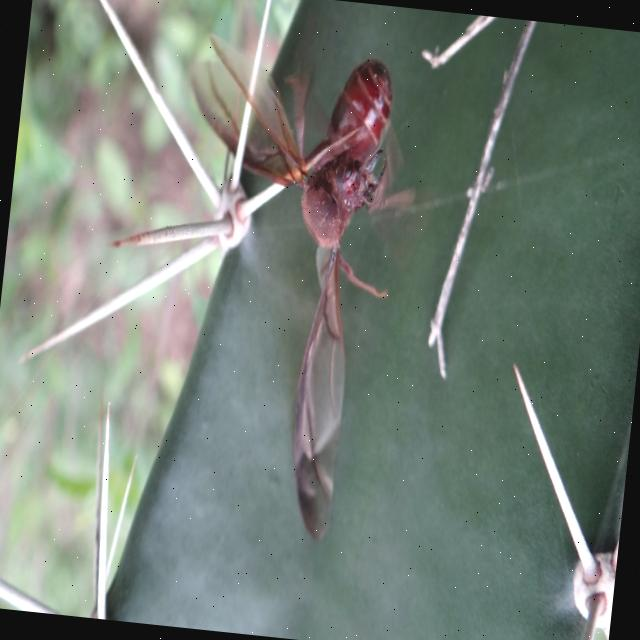Alive-Female-Alate: (137, 28, 450, 550)
